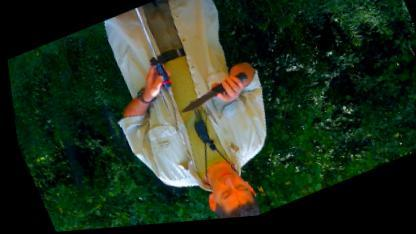knife: (168, 72, 256, 124)
